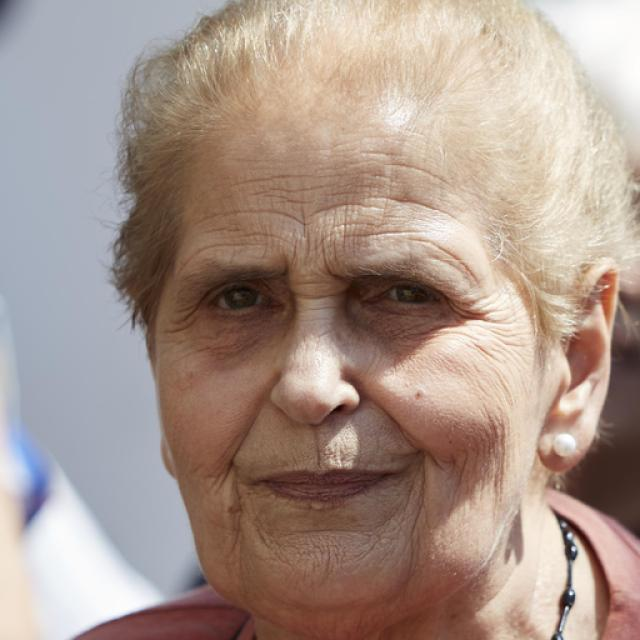content: (147, 90, 548, 620)
